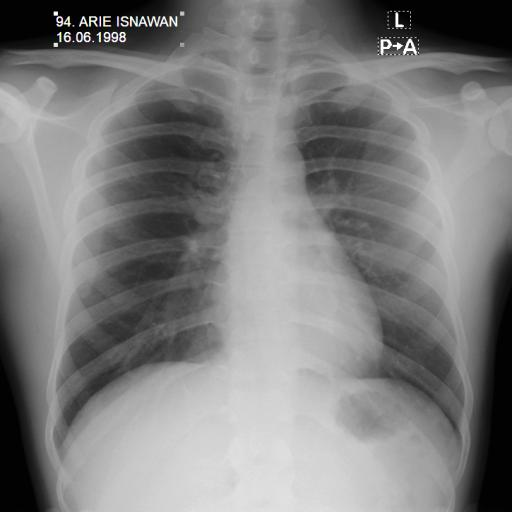normal: (40, 34, 478, 466)
